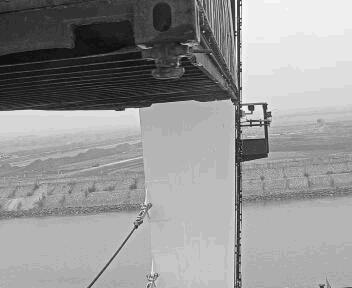twist_lock_1: (138, 180, 239, 247)
